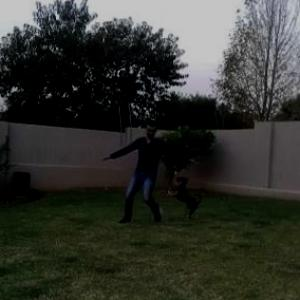land: (108, 120, 204, 234)
